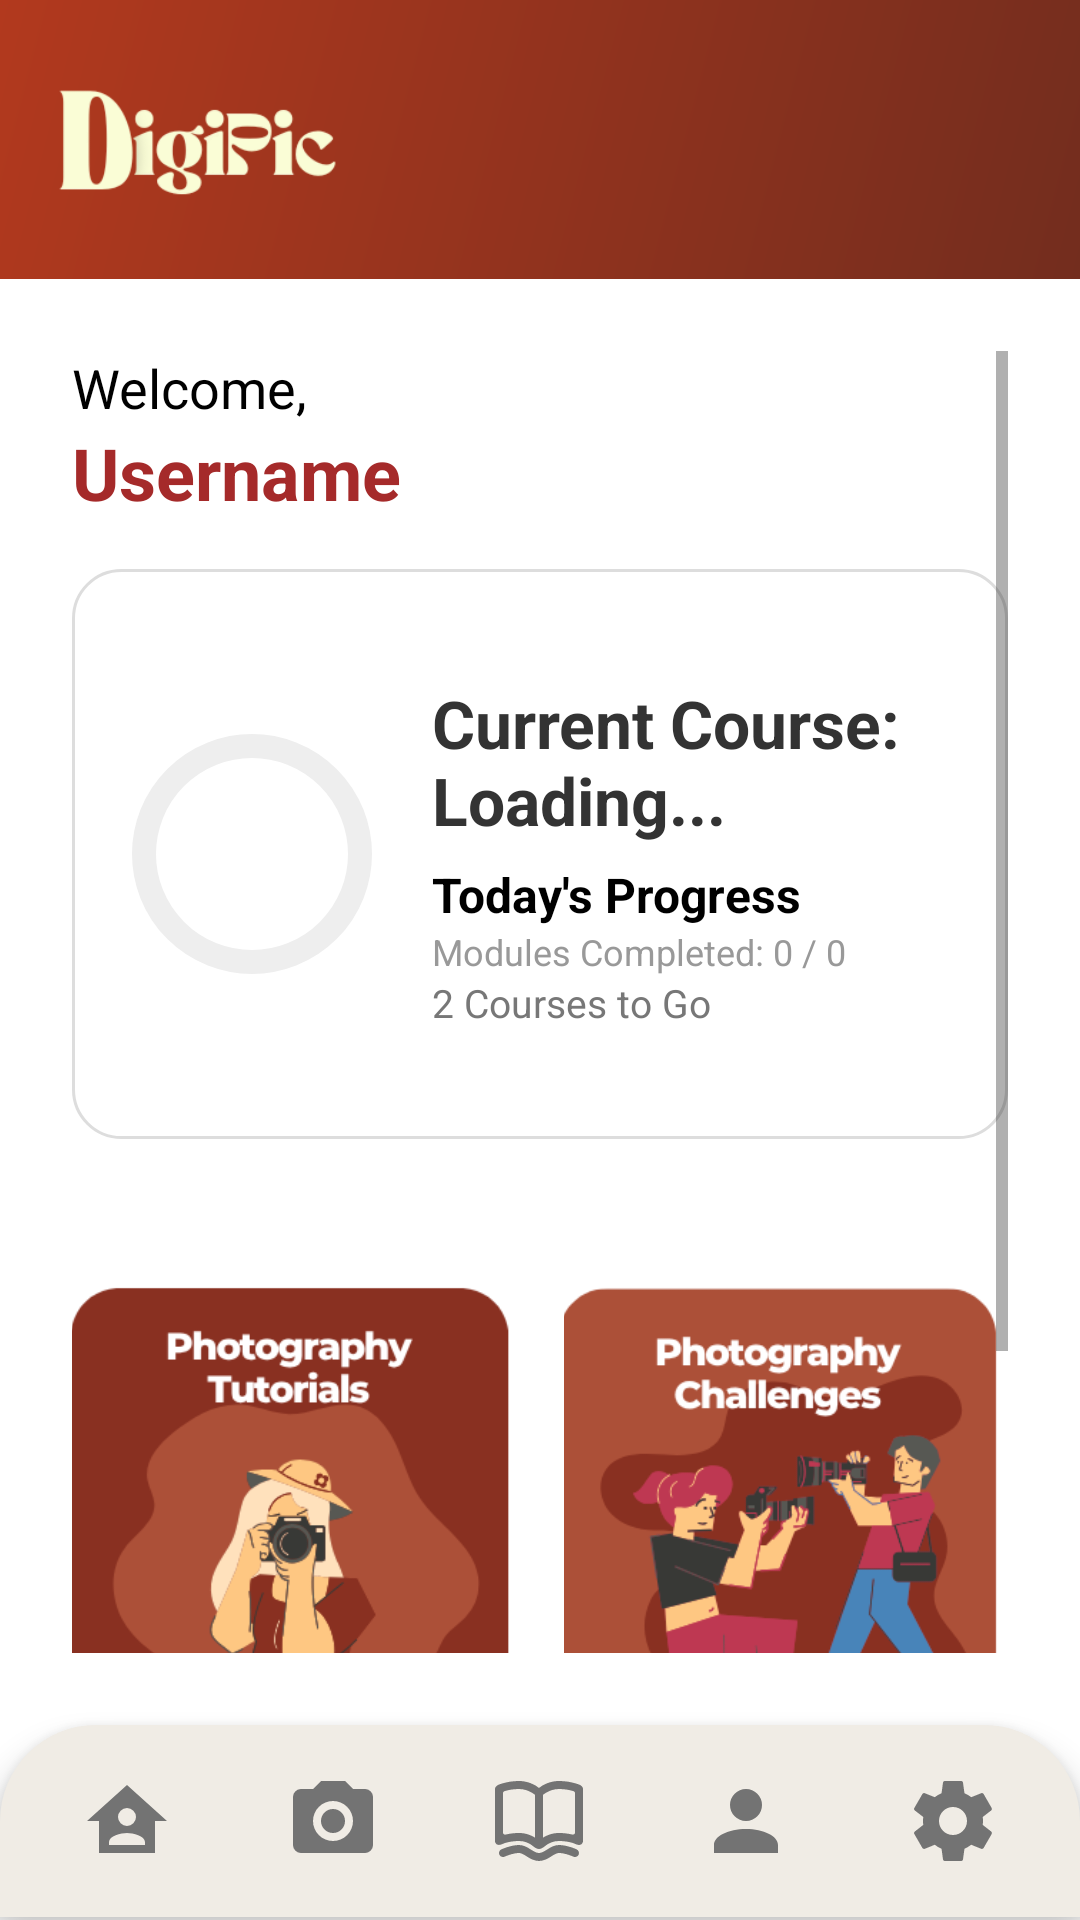

Where to tap for icons on this 1080px×1920px app screen, as point (x, y):
Home: point (127, 1819)
Profile: point (746, 1821)
Settings: point (953, 1821)
